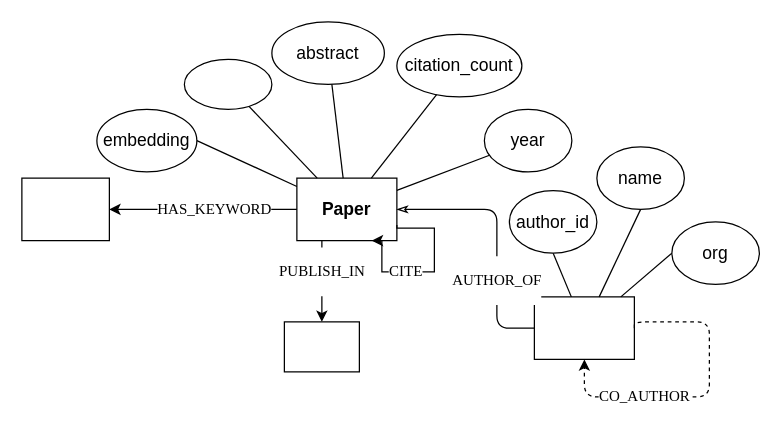
Some shapes in this 781 by 443 pixel diagram are drawn without their labels. The shapes that lost their labels are listed below. From the top down, each one's box as (x1, y1, x2, y2) in pixels, then its label:
(183, 58, 272, 109): title
(21, 177, 109, 241): Keyword
(283, 321, 359, 372): Venue
(533, 296, 634, 359): Author
